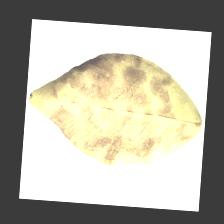black spot: (76, 63, 180, 153)
